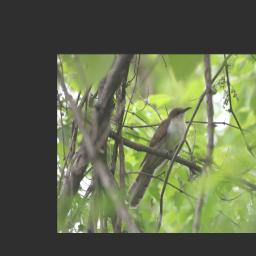Cuckoo: (124, 104, 193, 210)
